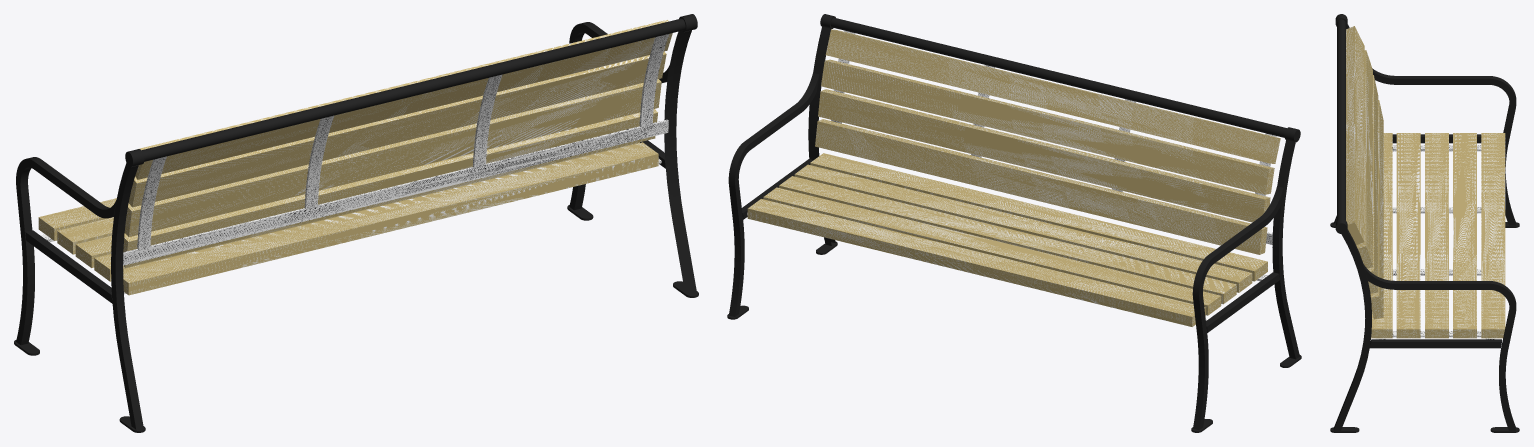
The picture shows the model from 3 angles, left to right: view 1: azimuth 30°, elevation 25°; view 2: azimuth 150°, elevation 25°; view 3: azimuth 270°, elevation 25°; orthographic projection. The views are drawn at different scales.
Visible parts, largest first — view 1: mesh15_mesh15-geometry, mesh13_mesh13-geometry, mesh12_mesh12-geometry, mesh37_mesh37-geometry, mesh28_mesh28-geometry, mesh11_mesh11-geometry, mesh14_mesh14-geometry, mesh1_mesh1-geometry, mesh29_mesh29-geometry, mesh17_mesh17-geometry, mesh16_mesh16-geometry, mesh19_mesh19-geometry (+2 smaller); view 2: mesh13_mesh13-geometry, mesh12_mesh12-geometry, mesh14_mesh14-geometry, mesh11_mesh11-geometry, mesh17_mesh17-geometry, mesh28_mesh28-geometry, mesh16_mesh16-geometry, mesh19_mesh19-geometry, mesh15_mesh15-geometry, mesh18_mesh18-geometry, mesh2_mesh2-geometry, mesh29_mesh29-geometry (+1 smaller); view 3: mesh16_mesh16-geometry, mesh17_mesh17-geometry, mesh18_mesh18-geometry, mesh19_mesh19-geometry, mesh11_mesh11-geometry, mesh1_mesh1-geometry, mesh2_mesh2-geometry, mesh15_mesh15-geometry, mesh28_mesh28-geometry, mesh29_mesh29-geometry, mesh12_mesh12-geometry, mesh14_mesh14-geometry (+1 smaller).
Boxes of the visible parts, x1,y1,x2,y2 form: mesh15_mesh15-geometry: (123, 142, 658, 295); mesh13_mesh13-geometry: (124, 79, 661, 236); mesh12_mesh12-geometry: (128, 51, 666, 207); mesh37_mesh37-geometry: (123, 34, 669, 265); mesh28_mesh28-geometry: (25, 18, 685, 429); mesh11_mesh11-geometry: (135, 20, 672, 179); mesh14_mesh14-geometry: (123, 109, 657, 267); mesh1_mesh1-geometry: (640, 14, 698, 297); mesh29_mesh29-geometry: (16, 157, 116, 345); mesh17_mesh17-geometry: (38, 198, 116, 240); mesh16_mesh16-geometry: (94, 142, 639, 281); mesh19_mesh19-geometry: (57, 217, 113, 254); mesh13_mesh13-geometry: (818, 89, 1270, 222); mesh12_mesh12-geometry: (821, 59, 1274, 194); mesh14_mesh14-geometry: (815, 119, 1267, 254); mesh11_mesh11-geometry: (825, 29, 1280, 163); mesh17_mesh17-geometry: (747, 199, 1205, 326); mesh28_mesh28-geometry: (830, 17, 1300, 359); mesh16_mesh16-geometry: (794, 164, 1252, 292); mesh19_mesh19-geometry: (763, 187, 1221, 315); mesh15_mesh15-geometry: (810, 153, 1267, 281); mesh18_mesh18-geometry: (779, 176, 1236, 304); mesh2_mesh2-geometry: (727, 73, 819, 319); mesh29_mesh29-geometry: (1192, 186, 1283, 429); mesh16_mesh16-geometry: (1396, 133, 1420, 338); mesh17_mesh17-geometry: (1481, 133, 1505, 338); mesh18_mesh18-geometry: (1425, 133, 1448, 338); mesh19_mesh19-geometry: (1453, 133, 1476, 338); mesh11_mesh11-geometry: (1346, 26, 1364, 245); mesh1_mesh1-geometry: (1330, 219, 1501, 432); mesh2_mesh2-geometry: (1363, 264, 1519, 432); mesh15_mesh15-geometry: (1371, 133, 1392, 338); mesh28_mesh28-geometry: (1333, 14, 1481, 224); mesh29_mesh29-geometry: (1372, 68, 1516, 225); mesh12_mesh12-geometry: (1356, 50, 1372, 268); mesh14_mesh14-geometry: (1370, 100, 1383, 319).
Size of the model in its own units: 0.856 by 0.4 by 0.3276.
